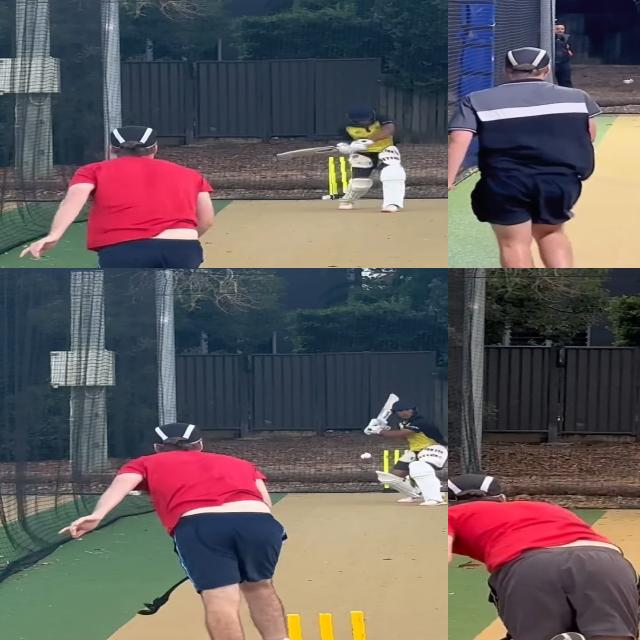Cricket ball: (358, 452, 374, 462), (320, 195, 332, 201), (623, 79, 635, 85)
Stumps: (273, 610, 383, 640), (329, 158, 352, 202)
